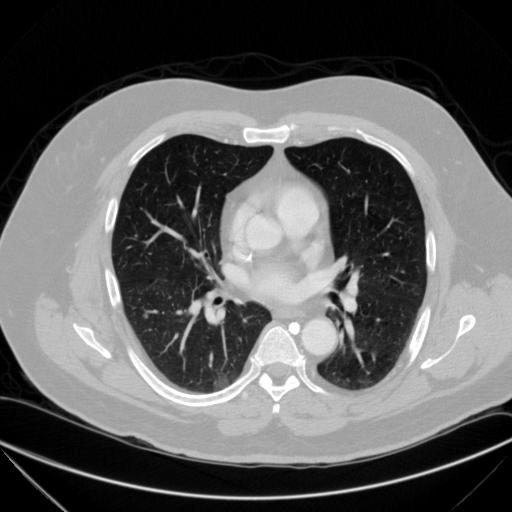nodule: (141, 310, 152, 321)
